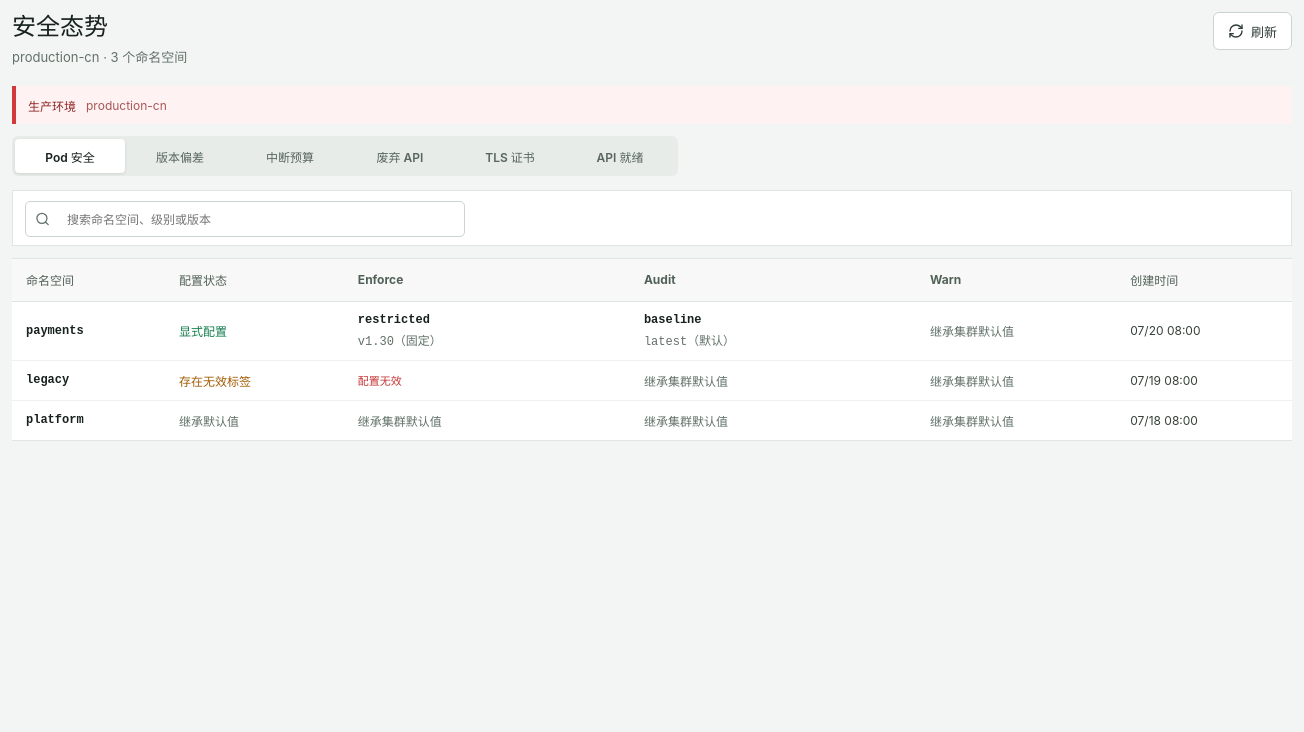
Test: SecurityPage › loads bounded node version evidence only after the version view is selected
This screenshot has width=1304, height=732.
Expected: the text "payments" is shown, [26,324,84,338]
Click the button "版本偏差": (180, 156) [125,139,235,173]
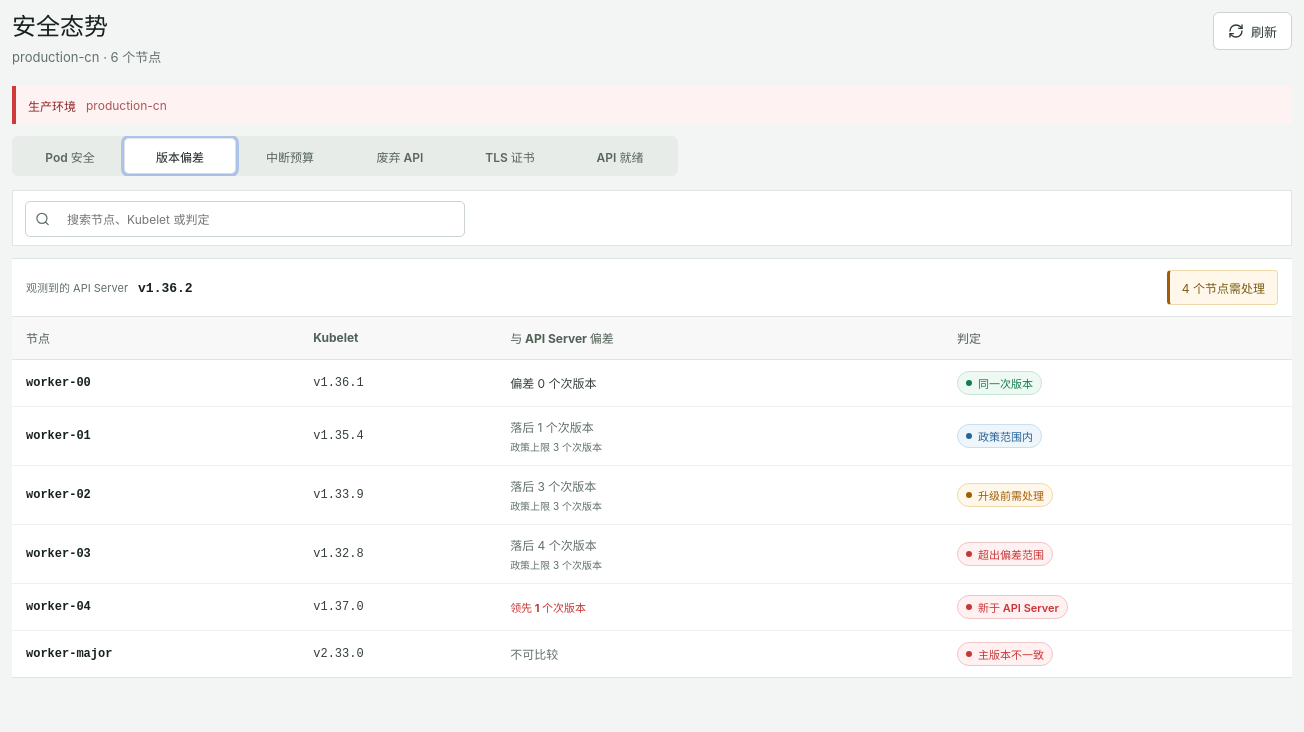
Now the text "v1.36.2" is shown, box [138,281,193,296]
Now the text "worker-00" is shown, box [26,376,91,390]
Now the text "同一次版本" is shown, box [957,370,1042,394]
In the search field named "搜索节点版本偏差": (256, 219) [57,200,455,238], type "主版本不一致"
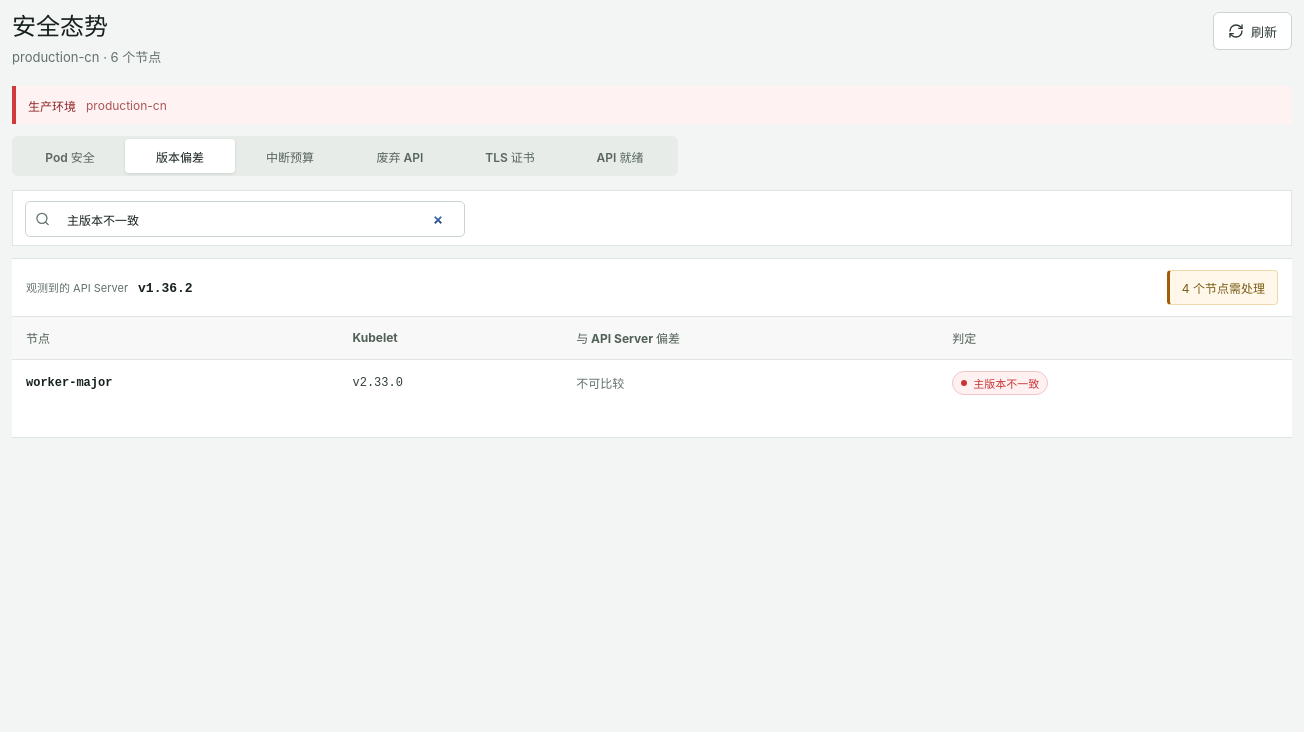
Now the text "worker-major" is shown, box [26,376,112,390]
Now the text "worker-00" is gone
